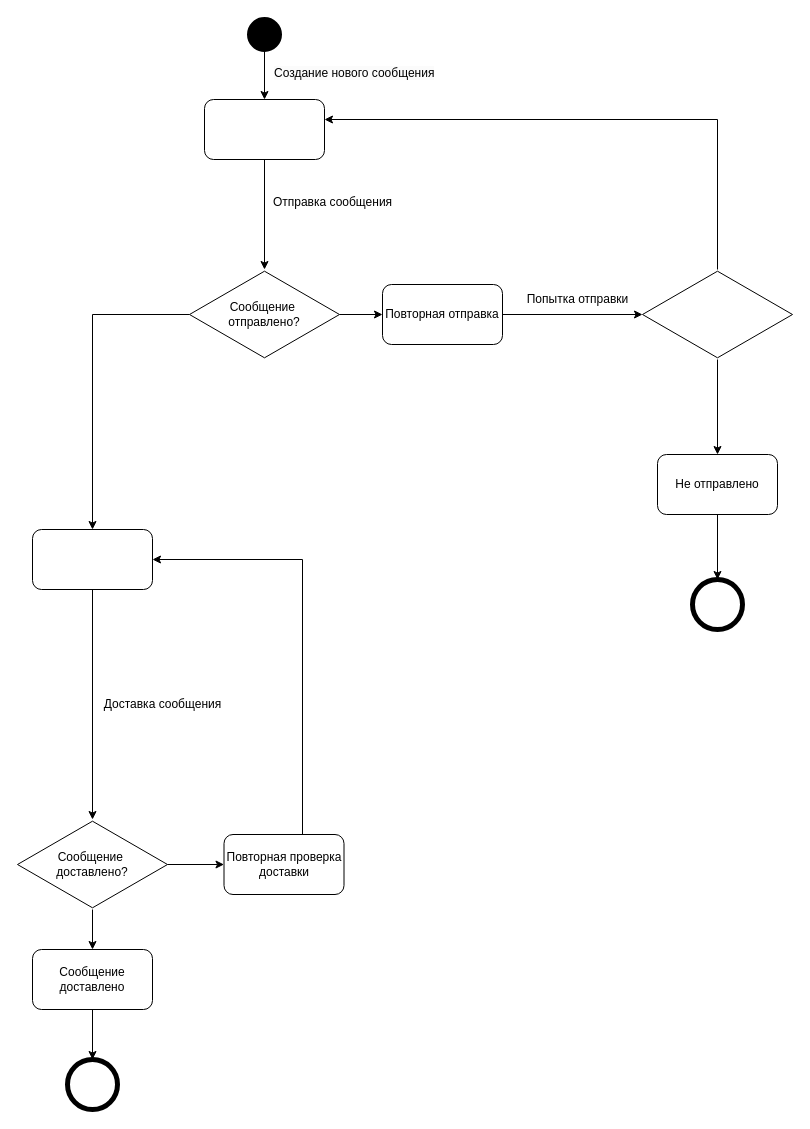
The diagram is 810 pixels wide and 1129 high, and some of its shapes have lost their labels. Here are the shapes that lost their labels. From the top down, the centre of each, then its label:
(264,129): Сообщение создано
(717,314): 3 попытки?
(92,559): Сообщение отправлено
